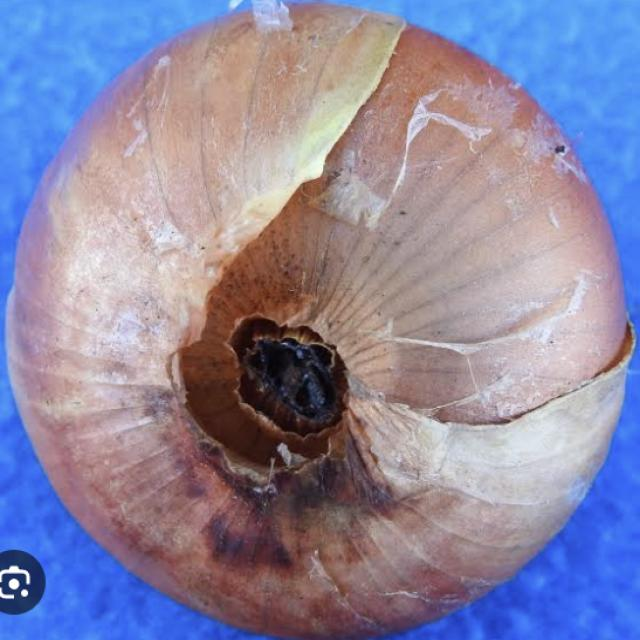mechanical_damage: (7, 2, 633, 639)
